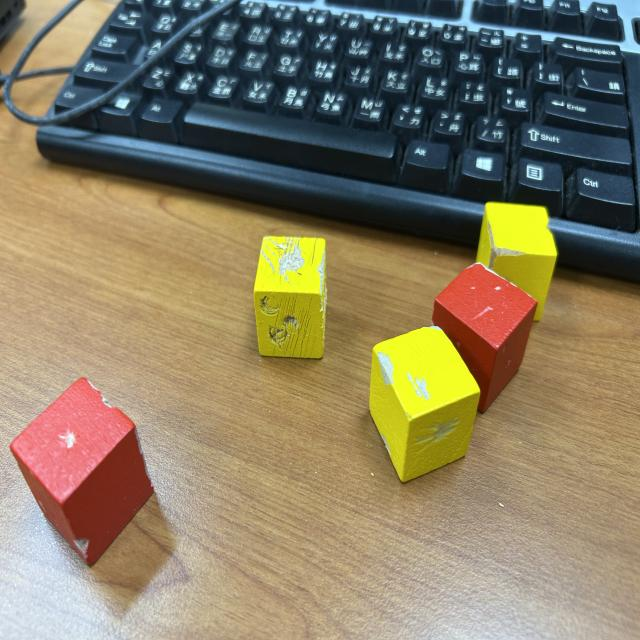broken: (9, 376, 154, 568), (368, 325, 482, 484), (431, 261, 537, 415), (473, 202, 558, 322), (252, 235, 328, 360)
